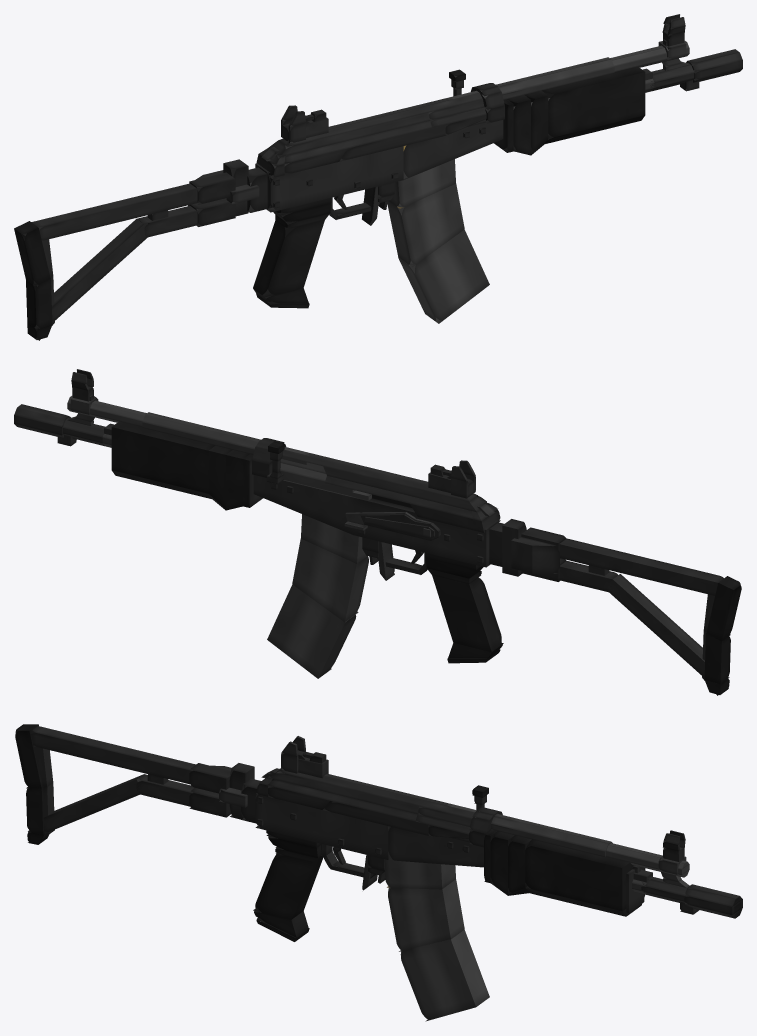
File: galilsar.obj
The picture shows the model from 3 angles, top to bottom: view 1: azimuth 30°, elevation 25°; view 2: azimuth 150°, elevation 25°; view 3: azimuth 330°, elevation 25°; orthographic projection.
Visible parts, largest first — view 1: gunModel80, gunModel0, ammoModel2, ammoModel1, gunModel96, gunModel64, gunModel73, gunModel97, gunModel5, ammoModel0, gunModel99, gunModel4 (+17 smaller); view 2: gunModel80, ammoModel2, ammoModel1, gunModel0, gunModel96, gunModel64, gunModel73, gunModel97, gunModel5, ammoModel0, gunModel105, gunModel4 (+17 smaller); view 3: ammoModel2, gunModel80, gunModel0, ammoModel1, gunModel96, gunModel64, gunModel73, gunModel97, ammoModel0, gunModel5, gunModel23, gunModel4 (+20 smaller).
Boxes of the visible parts, x1,y1,x2,y2 form: gunModel80: [527, 66, 645, 138]; gunModel0: [255, 146, 403, 212]; ammoModel2: [398, 229, 489, 323]; ammoModel1: [387, 183, 464, 267]; gunModel96: [31, 183, 202, 240]; gunModel64: [253, 220, 324, 297]; gunModel73: [403, 108, 503, 179]; gunModel97: [52, 219, 150, 322]; gunModel5: [278, 93, 482, 146]; ammoModel0: [389, 145, 455, 208]; gunModel99: [14, 221, 50, 286]; gunModel4: [267, 113, 429, 157]; gunModel80: [111, 421, 214, 493]; ammoModel2: [267, 584, 356, 678]; ammoModel1: [292, 538, 368, 622]; gunModel0: [353, 497, 498, 567]; gunModel96: [559, 538, 723, 595]; gunModel64: [432, 575, 503, 652]; gunModel73: [253, 475, 353, 534]; gunModel97: [606, 574, 704, 677]; gunModel5: [282, 449, 477, 501]; ammoModel0: [301, 514, 367, 563]; gunModel105: [511, 537, 559, 574]; gunModel4: [323, 466, 488, 512]; ammoModel2: [400, 930, 489, 1021]; gunModel80: [525, 839, 645, 911]; gunModel0: [255, 794, 389, 859]; ammoModel1: [388, 879, 464, 951]; gunModel96: [31, 726, 195, 784]; gunModel64: [253, 854, 323, 919]; gunModel73: [388, 826, 483, 867]; gunModel97: [43, 774, 143, 833]; ammoModel0: [384, 853, 455, 889]; gunModel5: [278, 770, 474, 818]; gunModel23: [491, 813, 612, 851]; gunModel4: [268, 768, 424, 814].
Size of the model in its own units: 27.04 by 8.76 by 1.7.
